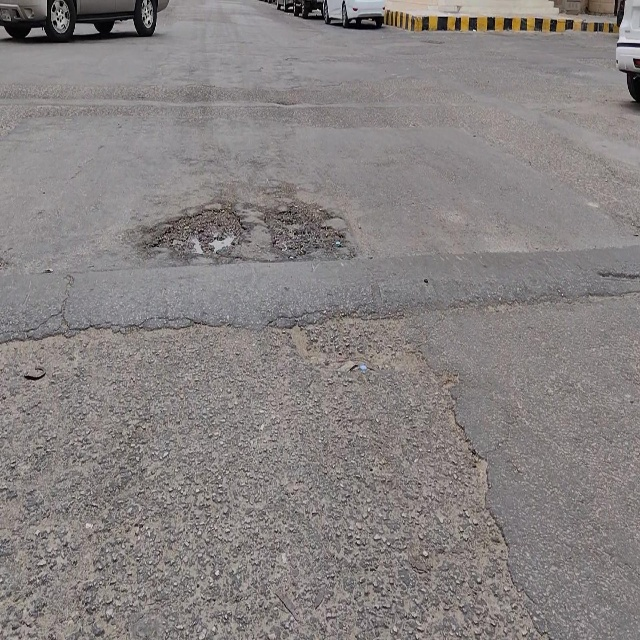pothole: (148, 204, 244, 265), (267, 209, 342, 258)
